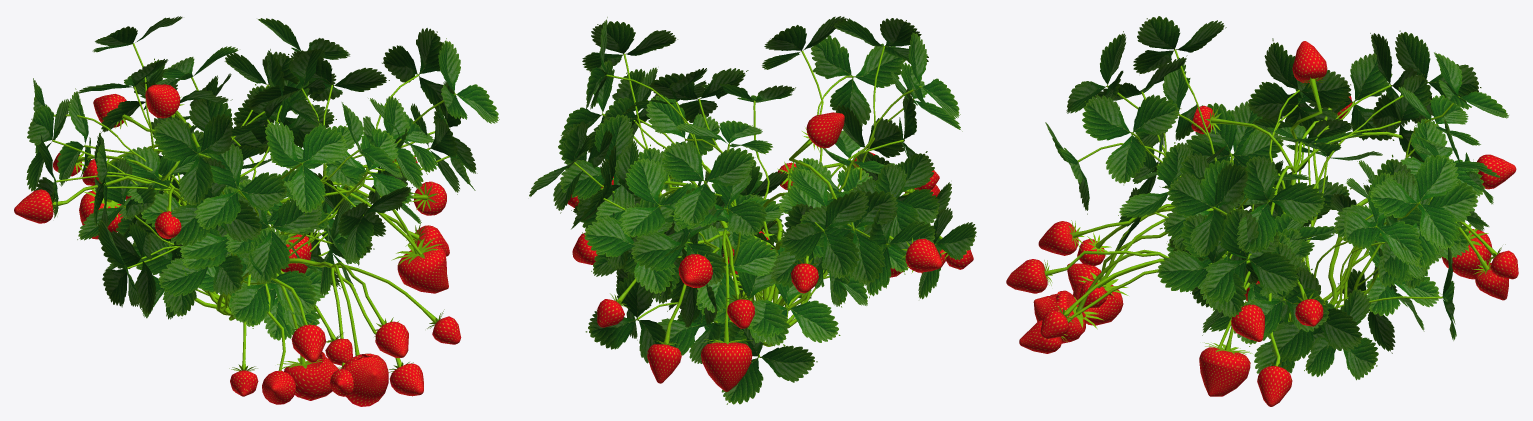
Rendered from strawberry_plant_07.obj.
The picture shows the model from 3 angles, left to right: view 1: azimuth 30°, elevation 25°; view 2: azimuth 150°, elevation 25°; view 3: azimuth 270°, elevation 25°; orthographic projection.
Parts seen in each view (by area): view 1: Strawberry_007; view 2: Strawberry_007; view 3: Strawberry_007.
Boxes of the visible parts, left/top/right/bottom form: Strawberry_007: left=14, top=16, right=499, bottom=406; Strawberry_007: left=529, top=16, right=976, bottom=404; Strawberry_007: left=1006, top=16, right=1518, bottom=406.
Size of the model in its own units: 0.4843 by 0.3358 by 0.5047.
Materials: 5 (5 with a texture image).
